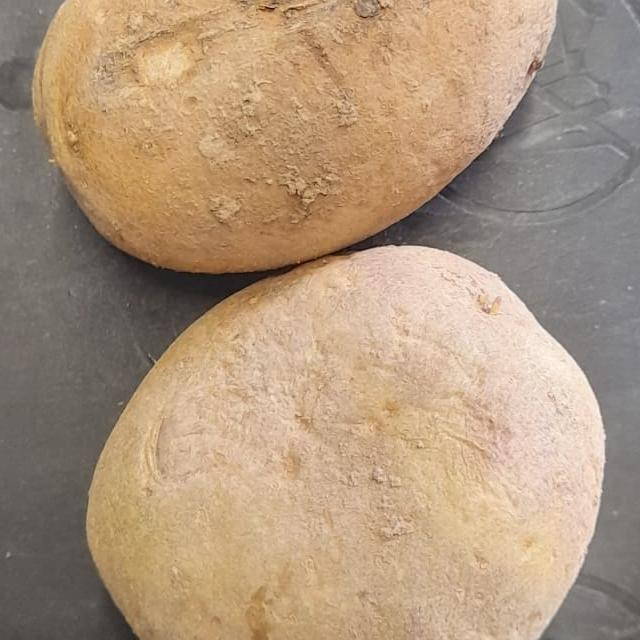potato: (83, 220, 640, 640), (3, 0, 636, 283)
